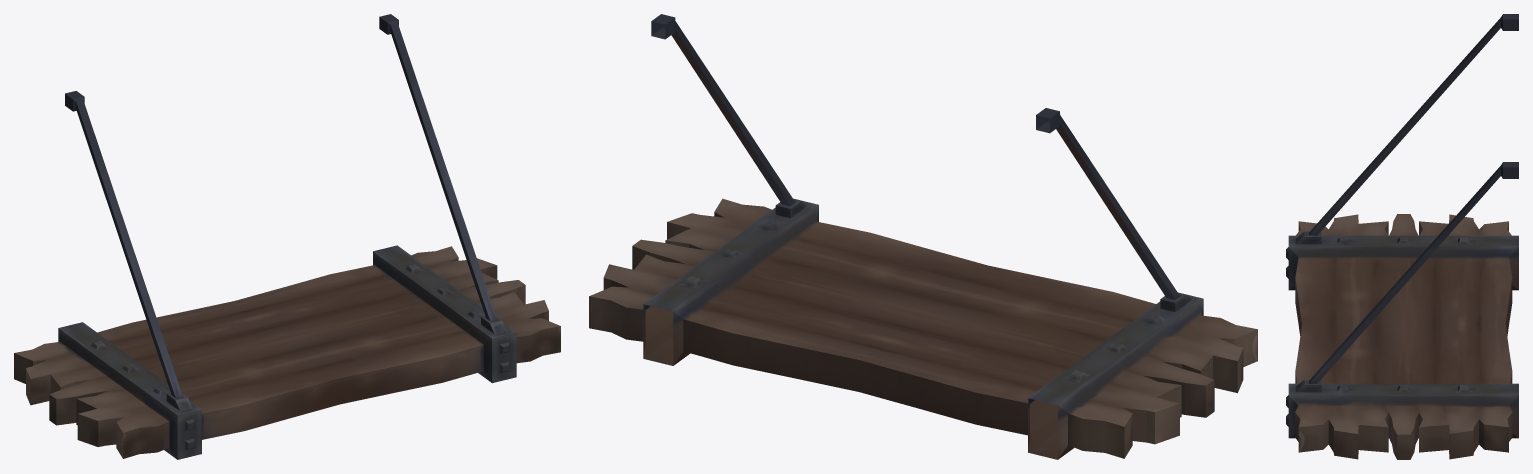
Rendered from SM_prycza.fbx.
3 views of the same model, side by side, from view 1: azimuth 30°, elevation 25°; view 2: azimuth 150°, elevation 25°; view 3: azimuth 270°, elevation 25° (orthographic). The views are drawn at different scales.
Visible parts, largest first — view 1: Box003; view 2: Box003; view 3: Box003.
Boxes of the visible parts, left/top/right/bottom form: Box003: left=14, top=14, right=560, bottom=459; Box003: left=589, top=14, right=1257, bottom=459; Box003: left=1286, top=14, right=1518, bottom=459.
Size of the model in its own units: 195 by 110 by 86.69.
